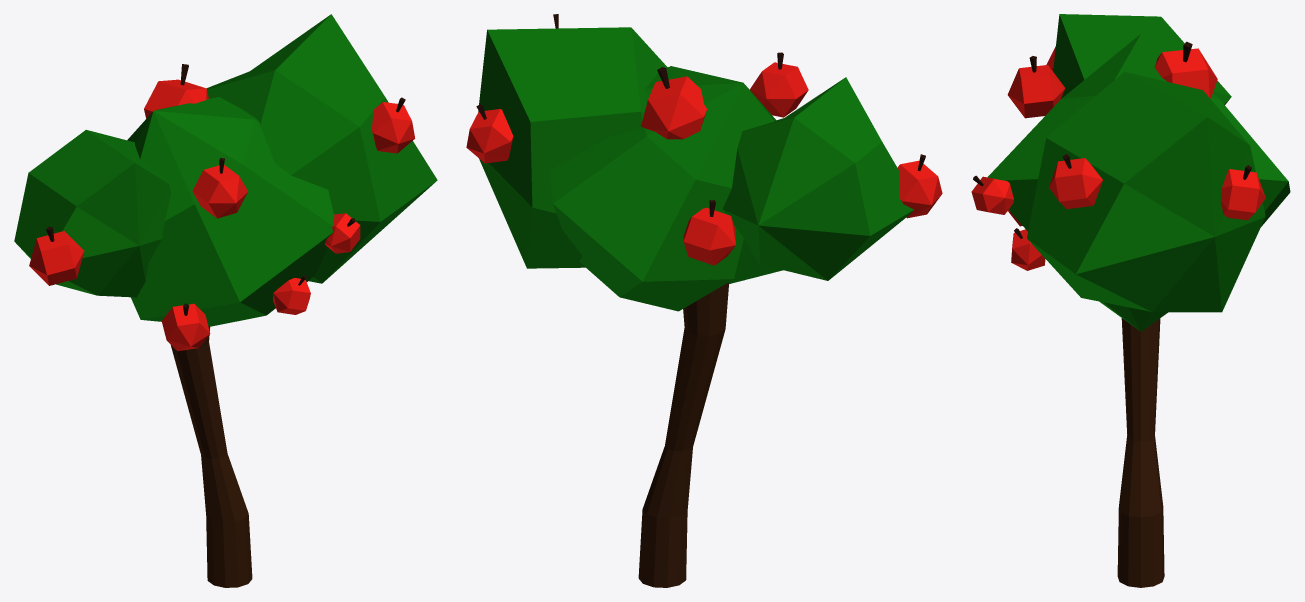
The model's file is tree 1.fbx.
3 views of the same model, side by side, from view 1: azimuth 30°, elevation 25°; view 2: azimuth 150°, elevation 25°; view 3: azimuth 270°, elevation 25° (orthographic). The views are drawn at different scales.
Visible parts, largest first — view 1: tree 1; view 2: tree 1; view 3: tree 1.
Part boxes in pixels (x1,y1,x2,y2): tree 1: (14,14,437,587); tree 1: (466,14,942,587); tree 1: (971,14,1290,587).
Size of the model in its own units: 408 by 490 by 268.
